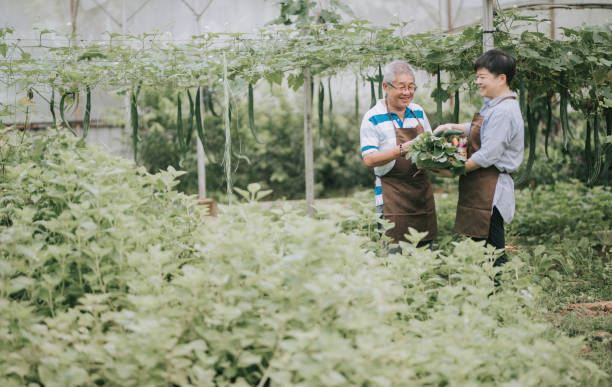without mask: (375, 50, 437, 114), (468, 47, 520, 103)
